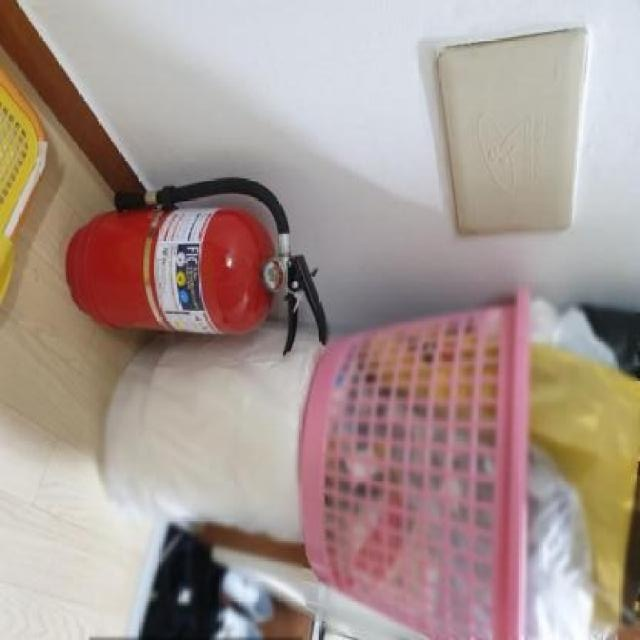fire extinguisher: (65, 176, 331, 356)
